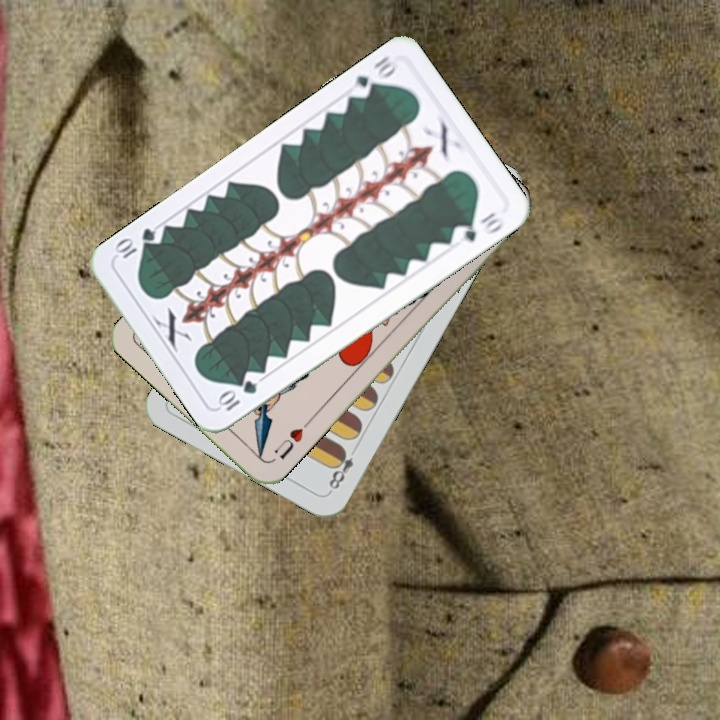E8: (324, 444, 356, 495)
G10: (345, 51, 402, 102), (214, 376, 260, 414)
HU: (270, 424, 306, 462)
